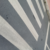zebra: (1, 1, 45, 50)
